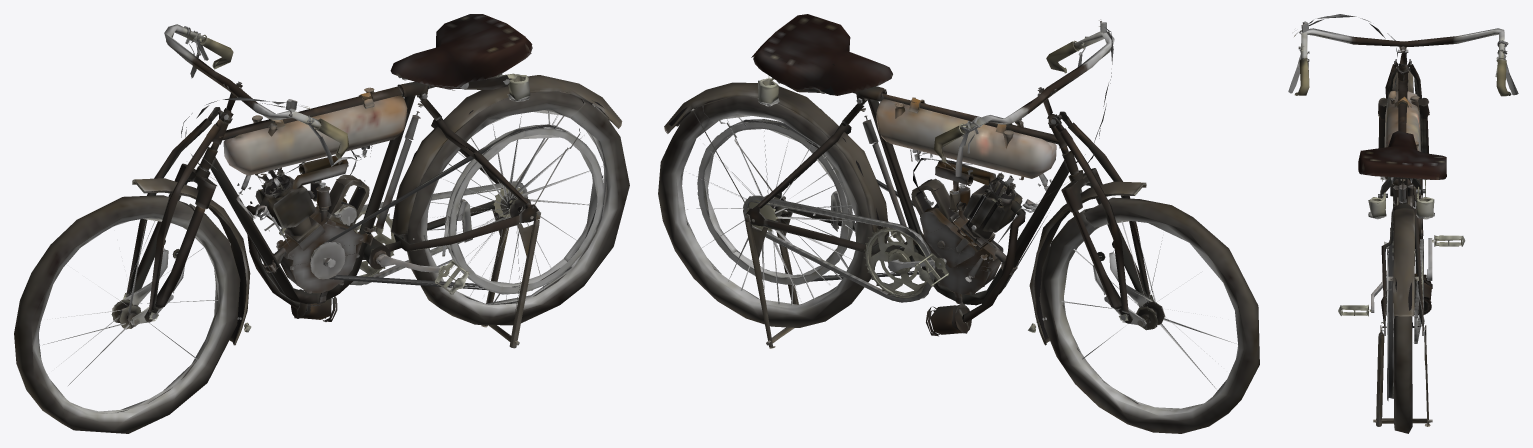
The model's file is s-i-a-m-t--1910-corsa-262cc-1-cyl-ohv-29-96da8f.glb.
3 views of the same model, side by side, from view 1: azimuth 30°, elevation 25°; view 2: azimuth 150°, elevation 25°; view 3: azimuth 270°, elevation 25° (orthographic). The views are drawn at different scales.
Visible parts, largest first — view 1: PropMesh; view 2: PropMesh; view 3: PropMesh.
Boxes of the visible parts, bbox=[...] form: PropMesh: bbox=[14, 14, 629, 433]; PropMesh: bbox=[658, 14, 1259, 433]; PropMesh: bbox=[1288, 14, 1518, 433].
Size of the model in its own units: 1.9 by 1.03 by 0.7305.
1 material, 1 textured.
